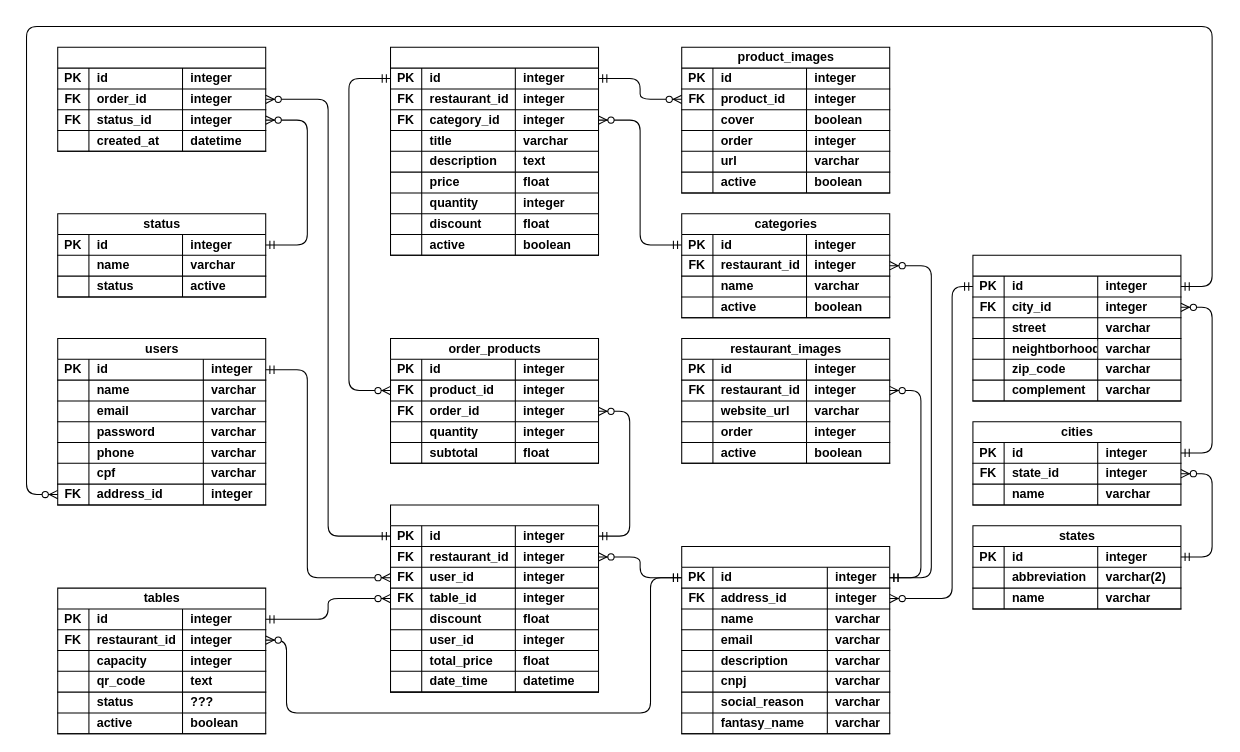
The diagram is 1240 pixels wide and 752 high, and some of its shapes have lost their labels. The shapes that lost their labels are listed below. From the top down, each one's box as (x1, y1, x2, y2) in pixels, then its label:
(57, 46, 266, 151): order_status
(389, 46, 599, 255): products
(972, 254, 1181, 401): addresses
(389, 504, 599, 692): orders
(681, 545, 890, 734): restaurants
